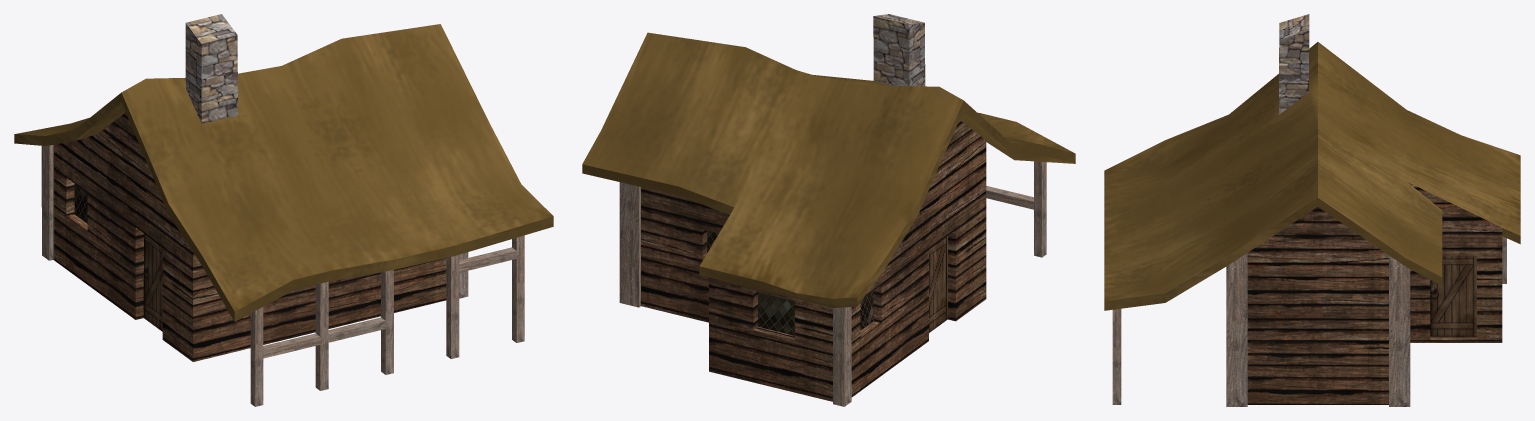
Rendered from House1.fbx.
3 renders of one model, left to right at view 1: azimuth 30°, elevation 25°; view 2: azimuth 150°, elevation 25°; view 3: azimuth 270°, elevation 25°, orthographic. The views are drawn at different scales.
Visible parts, largest first — view 1: House1; view 2: House1; view 3: House1.
Part boxes in pixels (<box>): House1: <box>14,14,553,406</box>; House1: <box>582,14,1075,406</box>; House1: <box>1104,14,1520,406</box>.
Size of the model in its own units: 8.07 by 7.24 by 9.65.
